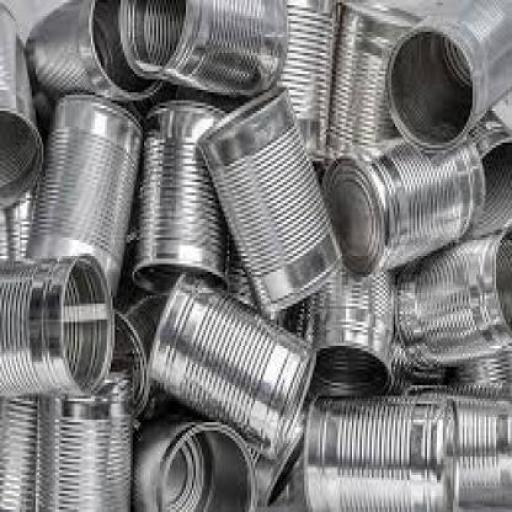metal: (196, 82, 342, 319), (144, 272, 314, 459), (22, 89, 144, 301), (318, 132, 484, 272), (383, 0, 511, 154), (300, 391, 457, 509), (131, 95, 227, 285), (115, 0, 289, 98), (393, 222, 510, 366), (0, 250, 111, 396), (285, 258, 391, 394), (328, 0, 419, 148), (23, 0, 160, 95), (36, 372, 130, 510), (407, 380, 510, 504), (132, 417, 256, 510), (271, 0, 338, 156), (0, 2, 44, 209), (253, 398, 305, 510), (465, 108, 510, 235), (0, 396, 38, 510), (109, 306, 146, 418), (123, 288, 170, 362), (221, 219, 255, 311), (0, 184, 34, 264), (455, 348, 510, 390), (394, 362, 442, 383)
